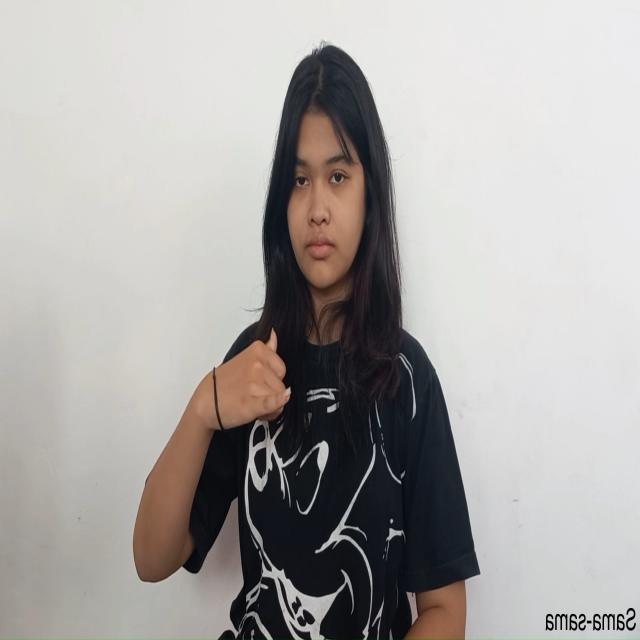Sama-sama -BISINDO-: (194, 324, 292, 444)
